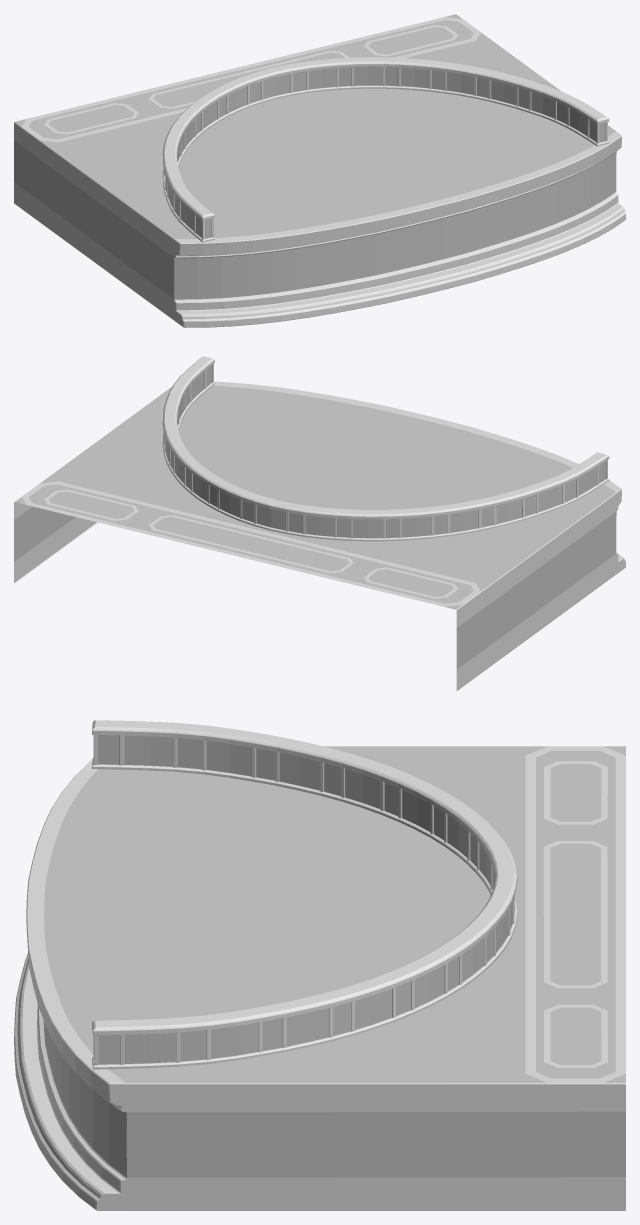
File: AlcoveTrimHeights_01_Lod0.fbx
The picture shows the model from 3 angles, top to bottom: view 1: azimuth 30°, elevation 25°; view 2: azimuth 150°, elevation 25°; view 3: azimuth 270°, elevation 25°; orthographic projection. The views are drawn at different scales.
Visible parts, largest first — view 1: S_Sunforged_AlcoveTrimHeights_01.mo; view 2: S_Sunforged_AlcoveTrimHeights_01.mo; view 3: S_Sunforged_AlcoveTrimHeights_01.mo.
Part boxes in pixels (left/top/right/bottom): S_Sunforged_AlcoveTrimHeights_01.mo: left=14, top=14, right=625, bottom=327; S_Sunforged_AlcoveTrimHeights_01.mo: left=14, top=356, right=625, bottom=690; S_Sunforged_AlcoveTrimHeights_01.mo: left=14, top=720, right=625, bottom=1210.
Size of the model in its own units: 655 by 153 by 502.
